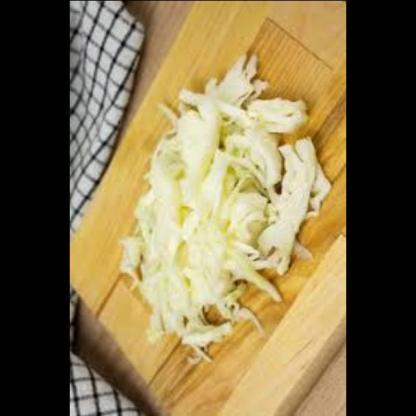cabbage: (119, 51, 333, 368)
